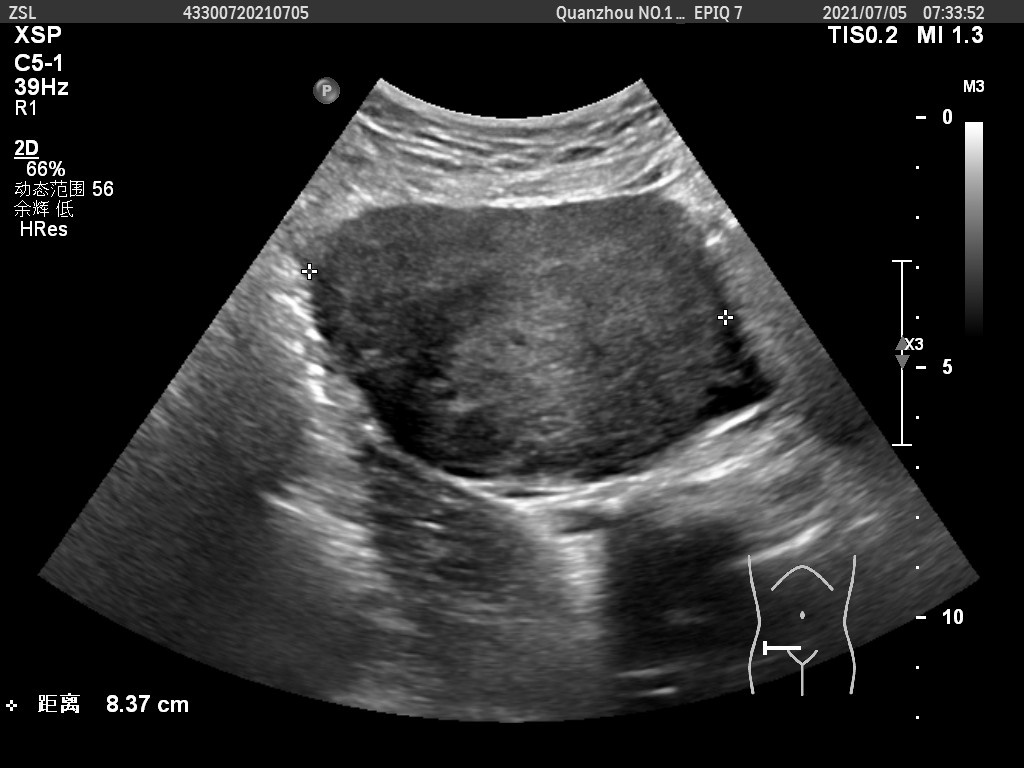肌瘤: (310, 221, 732, 463)
